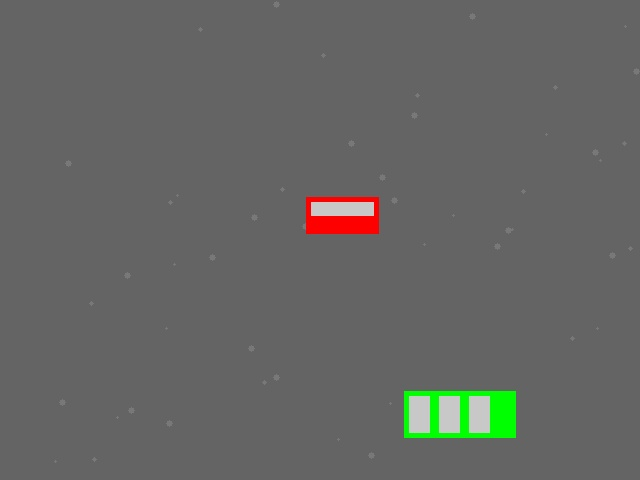bus: (404, 391, 515, 437)
car: (306, 197, 378, 233)
